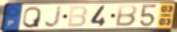4: (89, 5, 108, 29)
5: (139, 4, 159, 28)
B: (113, 5, 138, 27), (66, 5, 89, 28)
J: (44, 5, 63, 29)
Q: (21, 6, 42, 29)
